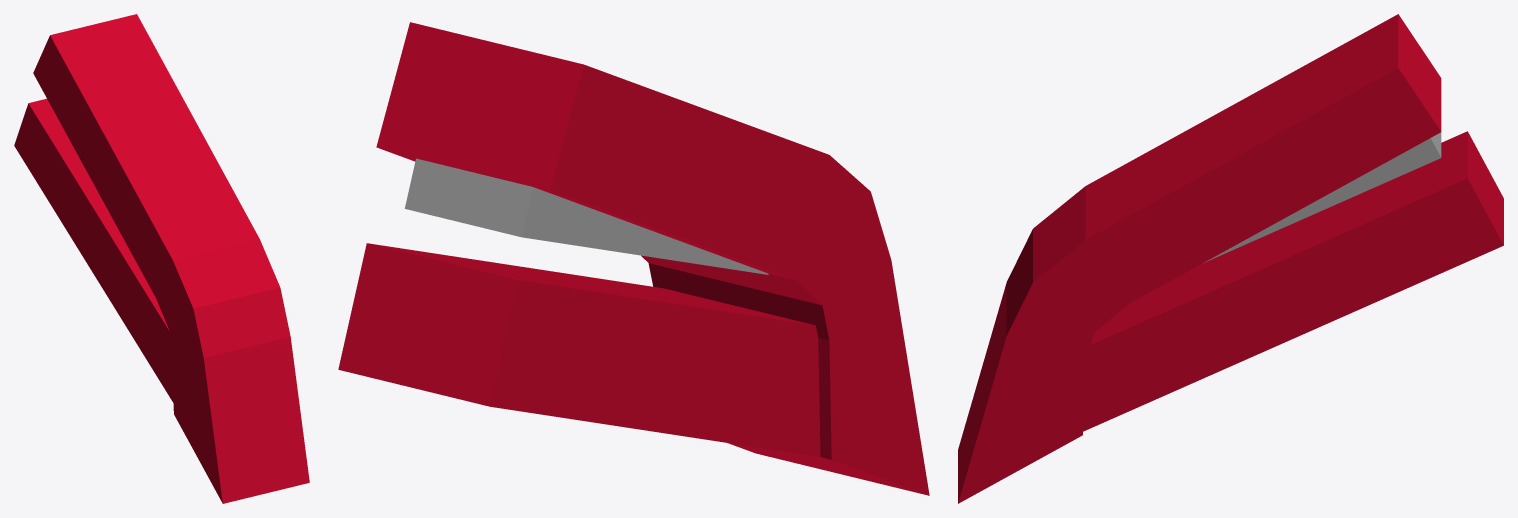
File: Stapler Perk.fbx
3 views of the same model, side by side, from view 1: azimuth 30°, elevation 25°; view 2: azimuth 150°, elevation 25°; view 3: azimuth 270°, elevation 25° (orthographic). The views are drawn at different scales.
Parts seen in each view (by area): view 1: stapler; view 2: stapler; view 3: stapler.
Boxes of the visible parts, <box> form: stapler: <box>14,14,309,503</box>; stapler: <box>338,22,929,495</box>; stapler: <box>958,14,1503,503</box>.
Bounding box in the file's own units: 1.83 × 6.87 × 7.79.
